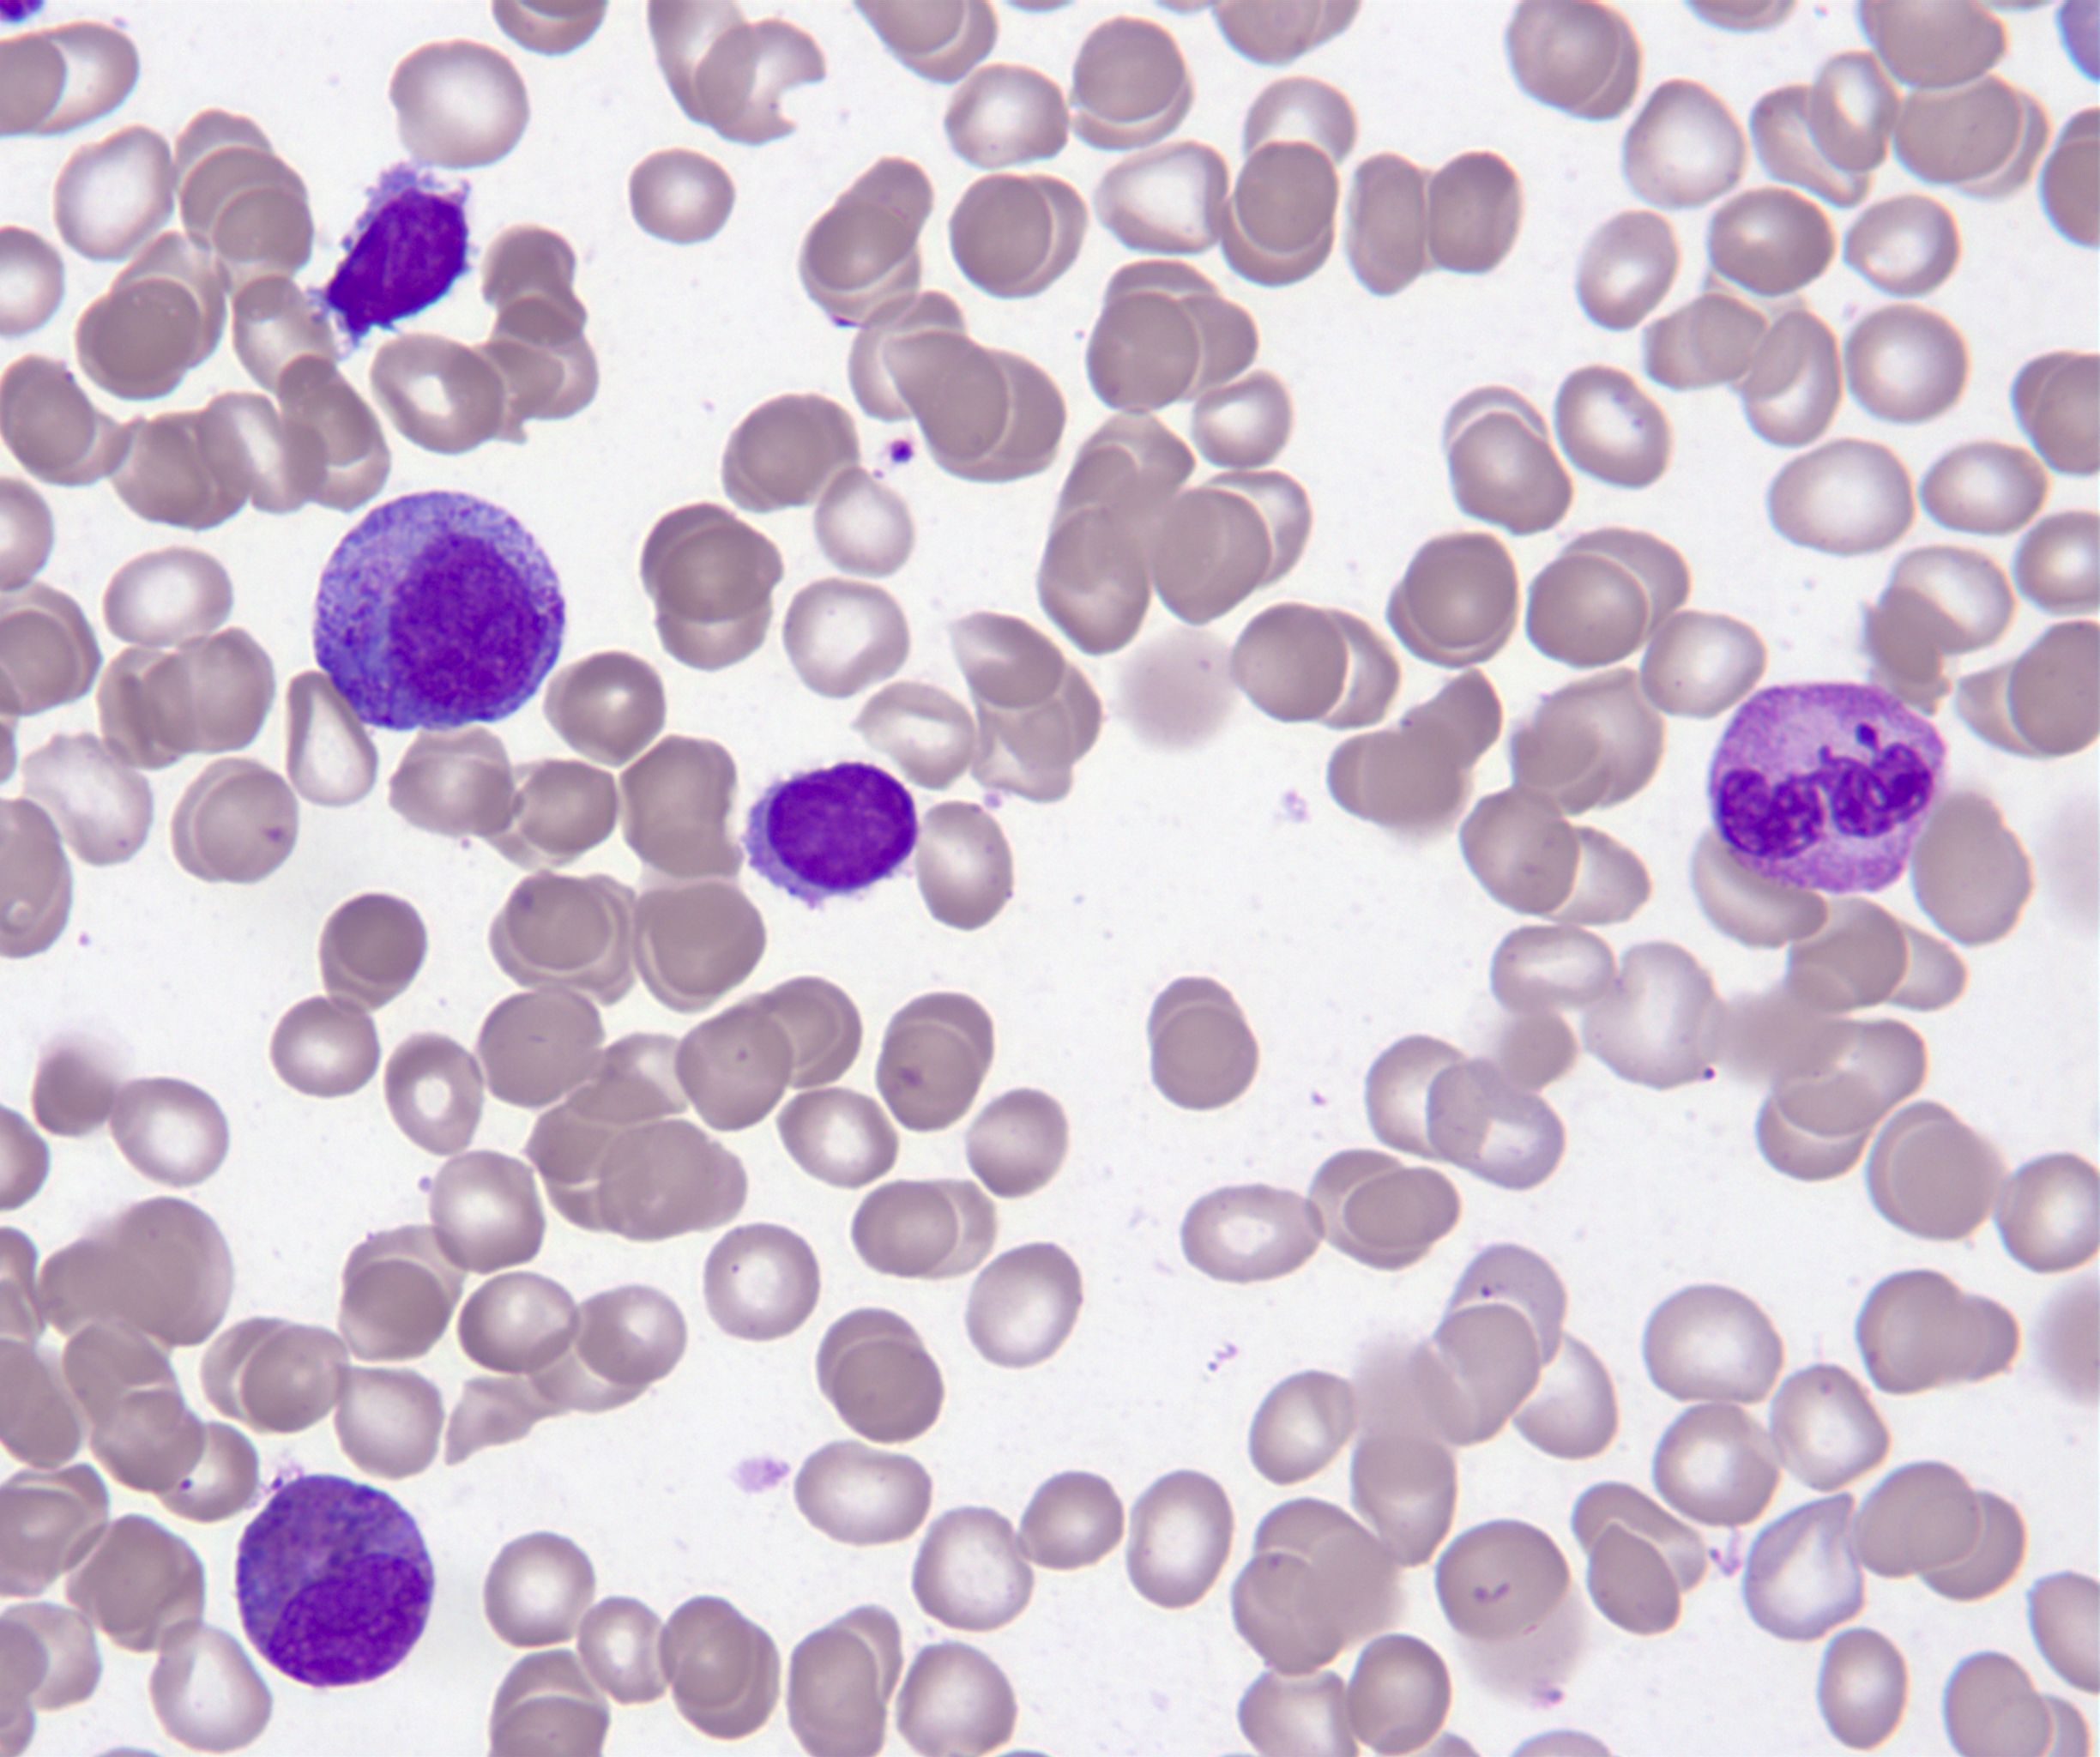3: (316, 492, 563, 729)
32: (309, 162, 480, 352), (743, 766, 919, 909)
6: (1708, 679, 1948, 895)
E2: (237, 1474, 436, 1685)
